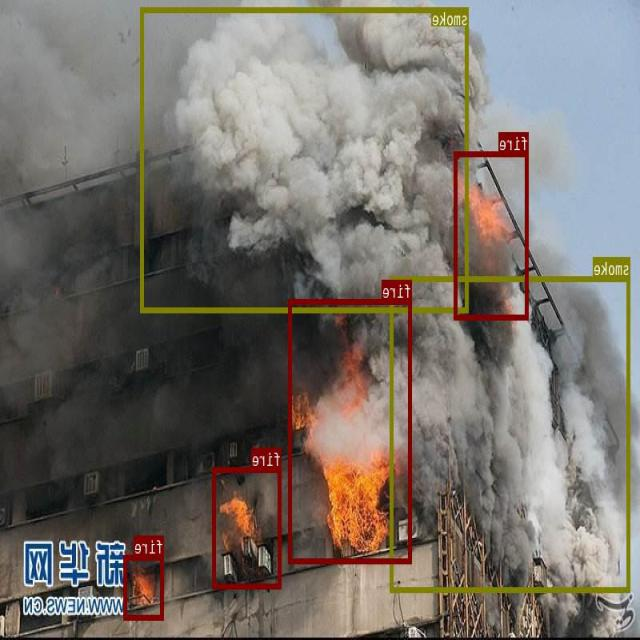fire: (289, 298, 413, 563), (455, 151, 529, 319), (214, 467, 282, 588), (124, 554, 164, 619)
smoke: (142, 7, 470, 311), (391, 276, 631, 592)
